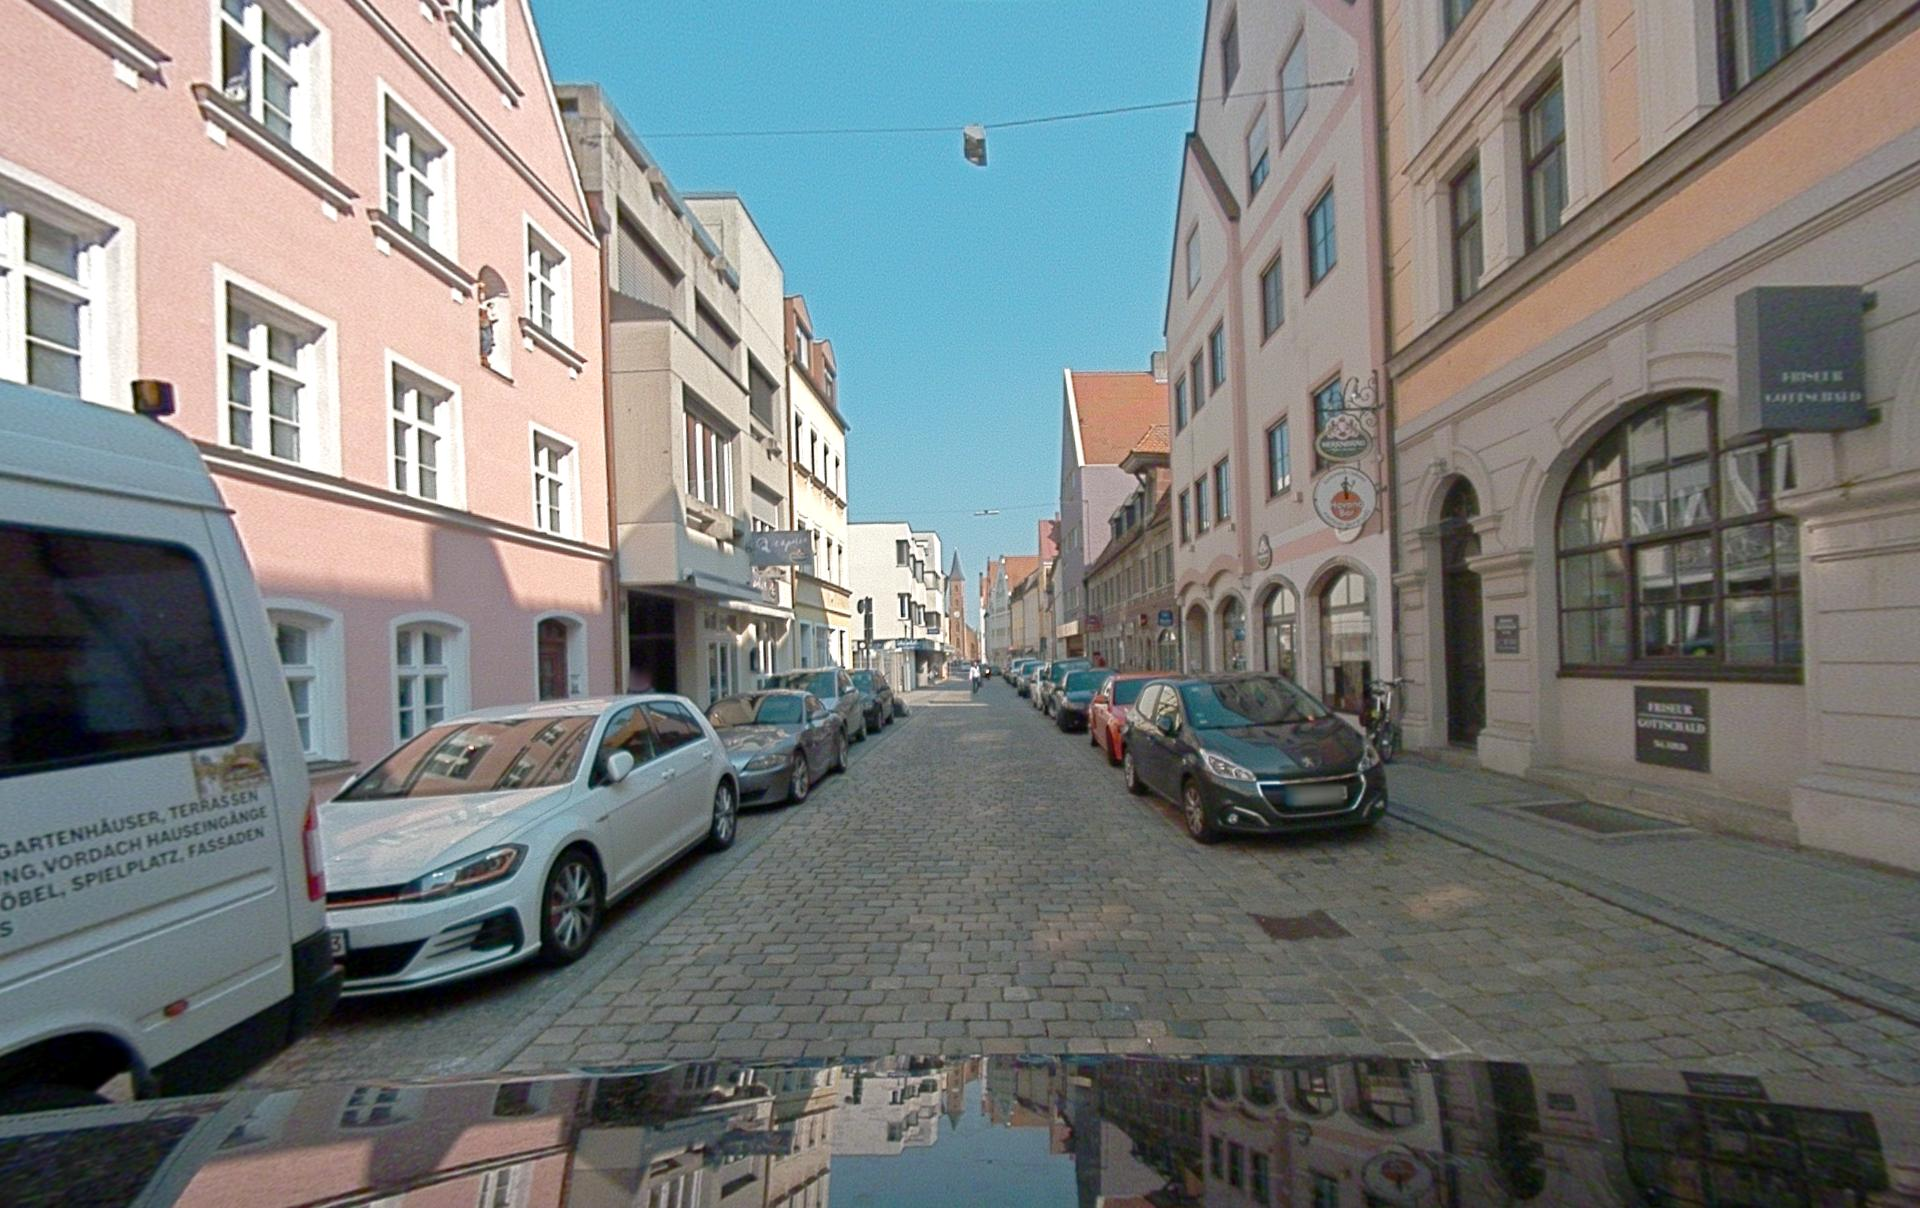car: (321, 695, 737, 994), (1123, 672, 1386, 842), (707, 690, 847, 803), (1088, 671, 1175, 764), (760, 667, 866, 740), (1053, 668, 1111, 731), (1031, 658, 1090, 713), (850, 669, 894, 731), (1017, 660, 1042, 696)
motorcycle: (1360, 678, 1405, 761)
